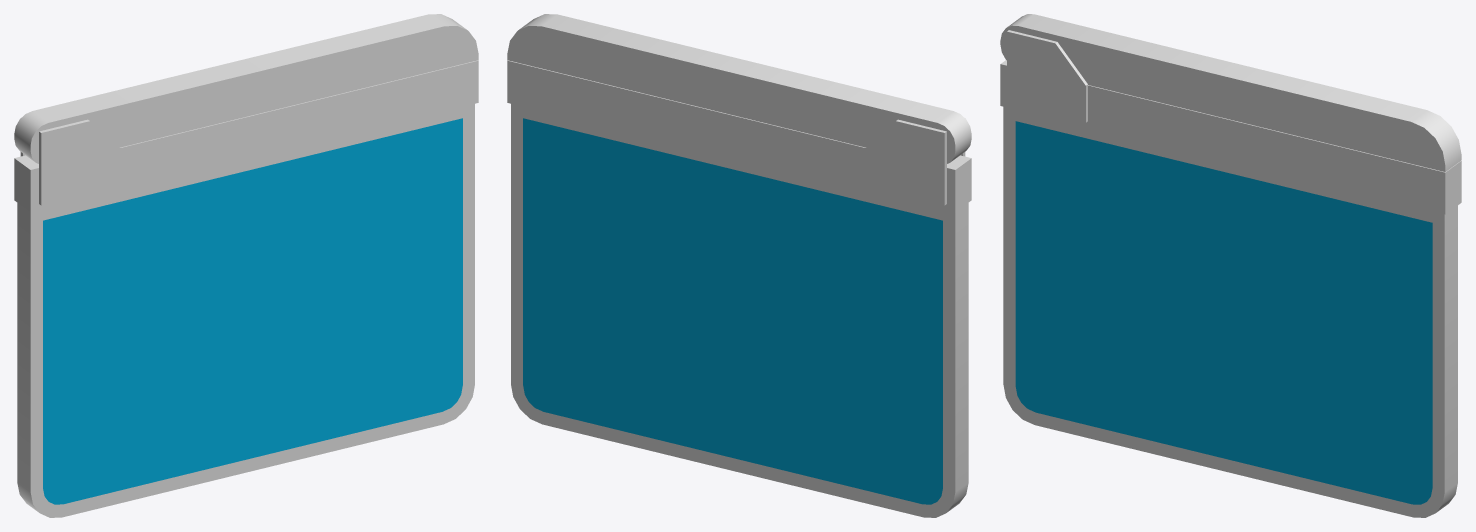
The model's file is FilmKlapper.fbx.
3 views of the same model, side by side, from view 1: azimuth 30°, elevation 25°; view 2: azimuth 150°, elevation 25°; view 3: azimuth 330°, elevation 25° (orthographic).
Visible parts, largest first — view 1: Filmklapper; view 2: Filmklapper; view 3: Filmklapper.
Part boxes in pixels (x1,y1,x2,y2): Filmklapper: [14, 14, 478, 517]; Filmklapper: [507, 14, 971, 517]; Filmklapper: [1000, 14, 1461, 517].
Size of the model in its own units: 0.3185 by 0.2712 by 0.0252.
